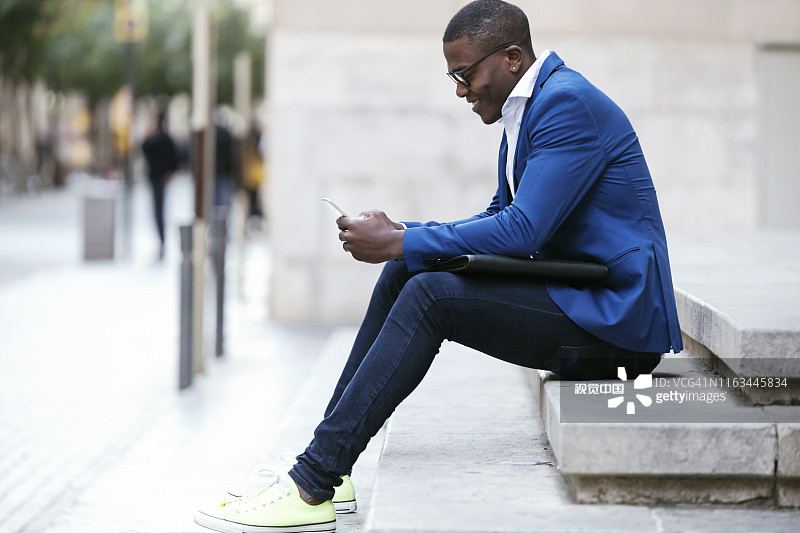reading: (304, 186, 411, 268)
